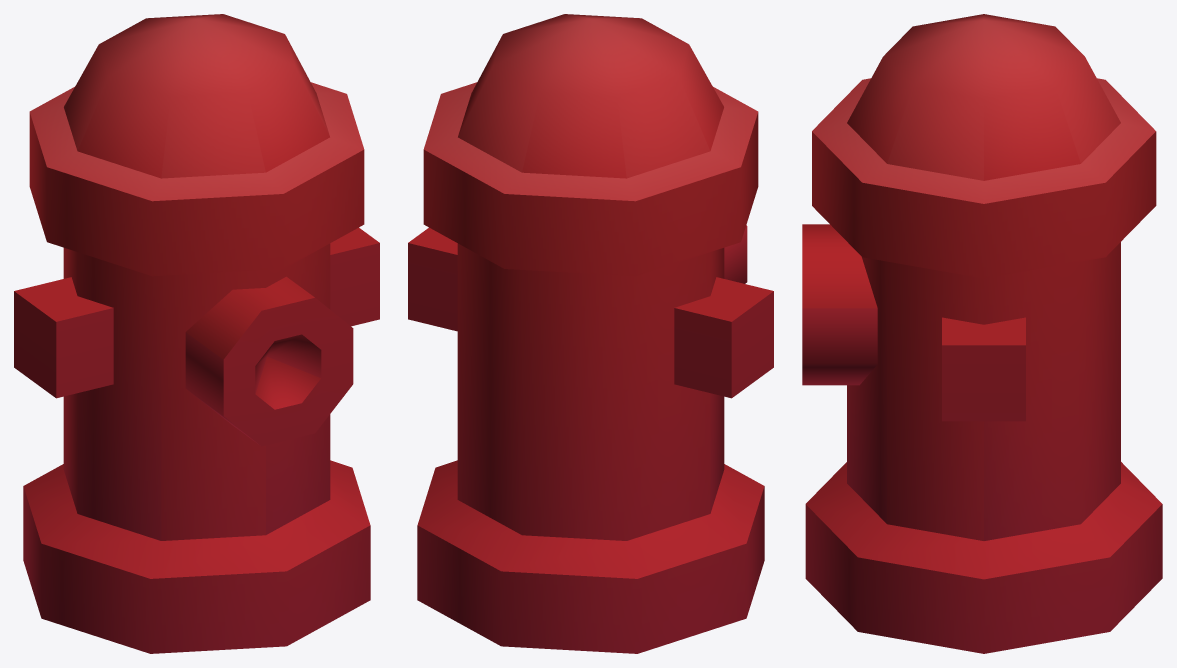
The model's file is city-firehydrant.glb.
3 views of the same model, side by side, from view 1: azimuth 30°, elevation 25°; view 2: azimuth 150°, elevation 25°; view 3: azimuth 270°, elevation 25° (orthographic).
Parts seen in each view (by area): view 1: firehydrant; view 2: firehydrant; view 3: firehydrant.
Boxes of the visible parts, bbox=[...] form: firehydrant: bbox=[14, 14, 379, 653]; firehydrant: bbox=[408, 14, 773, 653]; firehydrant: bbox=[802, 14, 1162, 653].
Bounding box in the file's own units: 0.1355 × 0.2246 × 0.1313.
